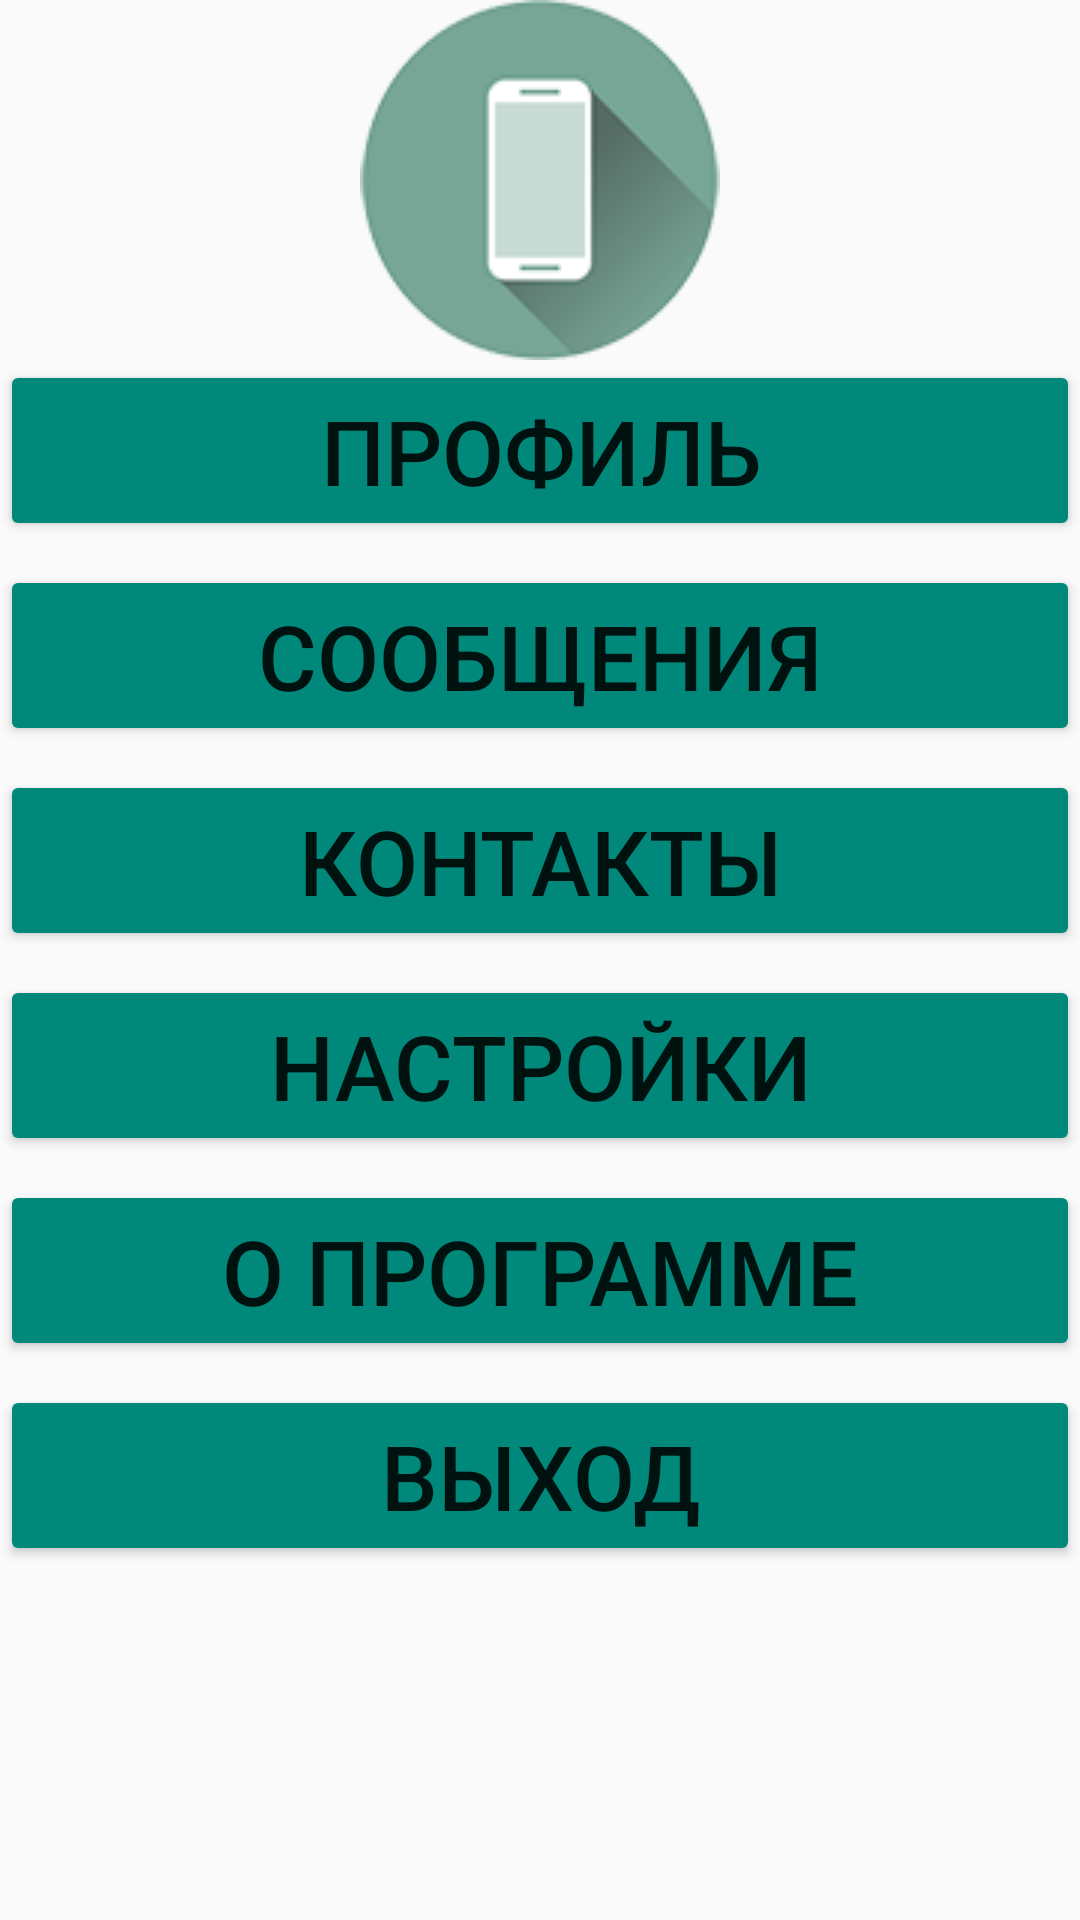

Named icons in this screenshot (1080x1920) and their centers, [x,y]:
phone: [540,180]
